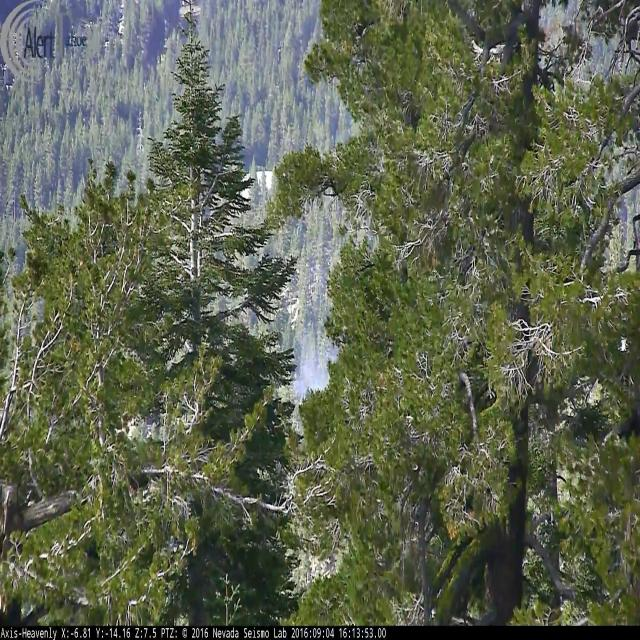smoke: (292, 343, 341, 398)
